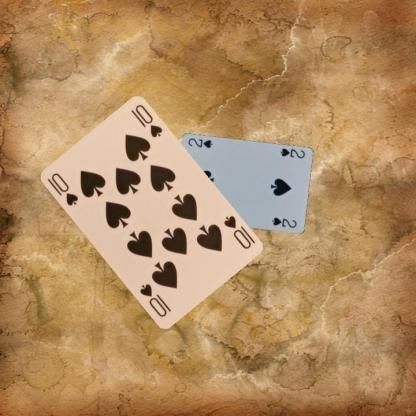10s: (44, 170, 79, 207), (220, 212, 252, 250)
2s: (277, 145, 306, 159)
